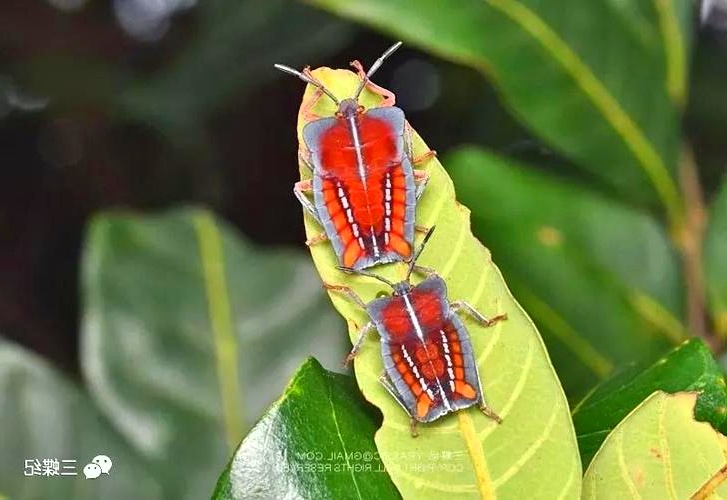Stink_Bug: (323, 80, 403, 274), (372, 288, 482, 425)
